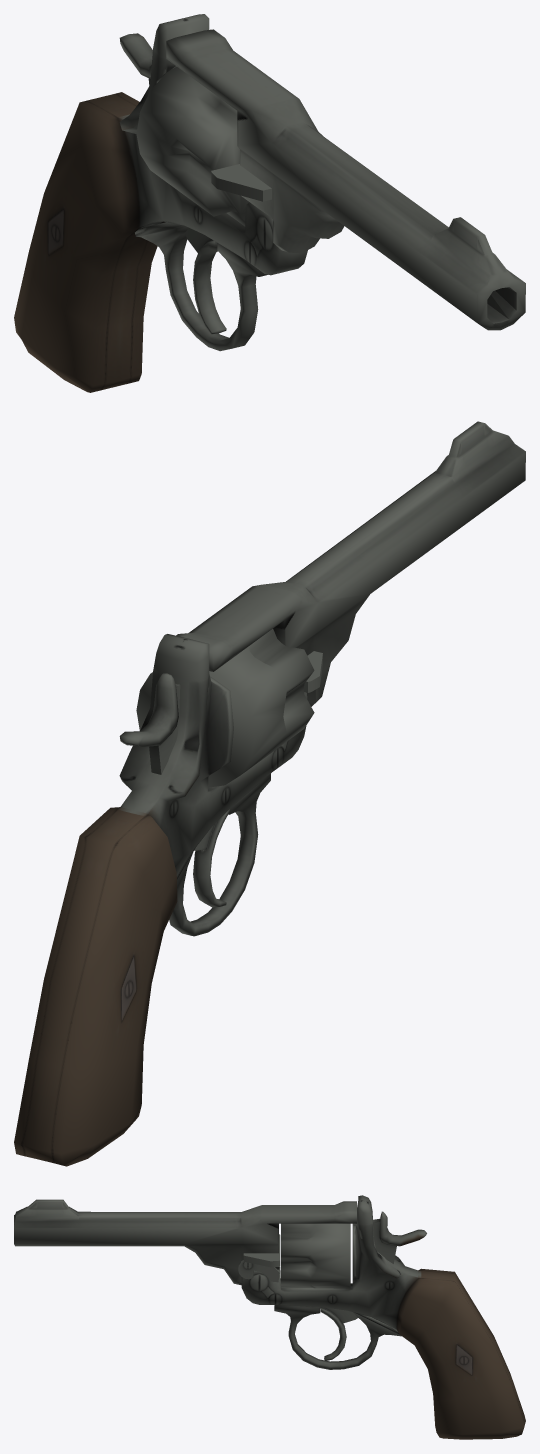
Rendered from webley.FBX.
The picture shows the model from 3 angles, top to bottom: view 1: azimuth 30°, elevation 25°; view 2: azimuth 150°, elevation 25°; view 3: azimuth 270°, elevation 25°; orthographic projection. The views are drawn at different scales.
Parts seen in each view (by area): view 1: webley; view 2: webley; view 3: webley.
Part boxes in pixels (x1,y1,x2,y2): webley: [14, 14, 525, 392]; webley: [14, 421, 525, 1166]; webley: [14, 1195, 525, 1439].
Bounding box in the file's own units: 0.042 × 0.1433 × 0.2871.
